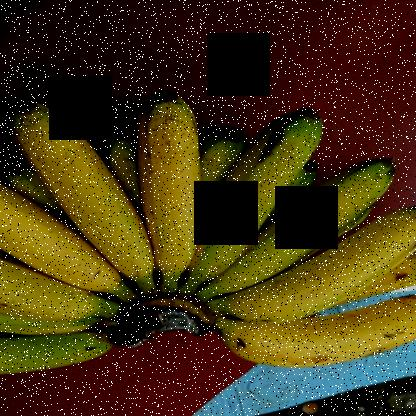freshripe: (192, 102, 326, 283), (12, 103, 147, 277), (236, 158, 398, 294), (237, 213, 415, 335), (127, 100, 216, 285), (221, 295, 415, 371), (0, 236, 99, 327)
